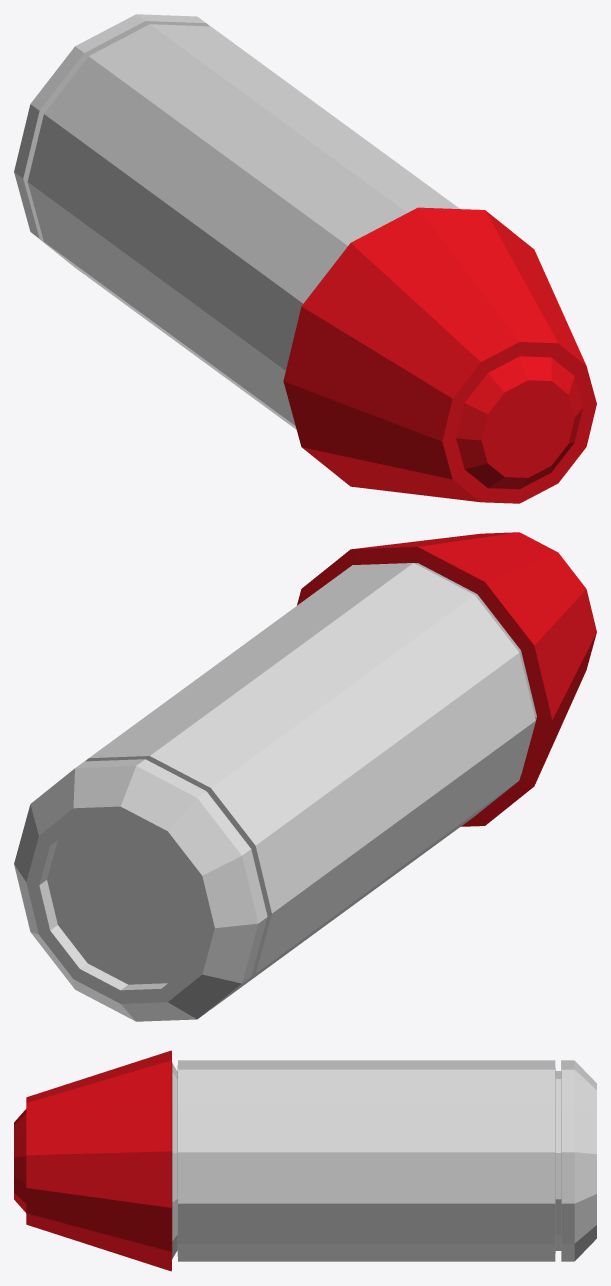
The model's file is Misil.fbx.
3 views of the same model, one above another, from view 1: azimuth 30°, elevation 25°; view 2: azimuth 150°, elevation 25°; view 3: azimuth 270°, elevation 25° (orthographic). The views are drawn at different scales.
Parts seen in each view (by area): view 1: Misil; view 2: Misil; view 3: Misil.
Part boxes in pixels (bbox=[...]): Misil: bbox=[14, 14, 596, 503]; Misil: bbox=[14, 532, 596, 1021]; Misil: bbox=[14, 1050, 596, 1271].
Size of the model in its own units: 88.38 by 88.38 by 232.
